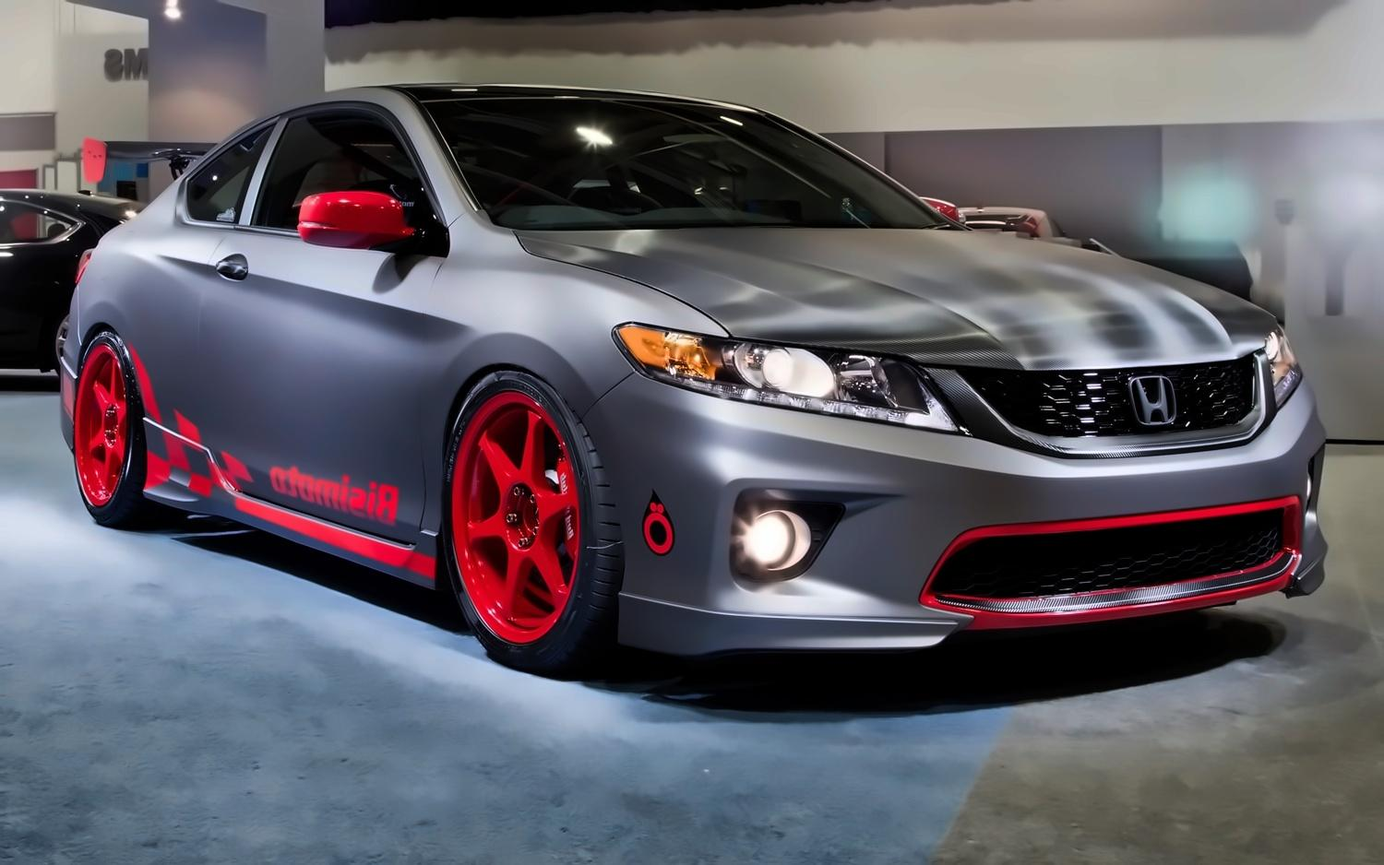Car hood: (510, 222, 1289, 367)
Driver-s door - -F-R-: (217, 86, 460, 560)
Fender - -F-R-: (399, 212, 643, 597)
Front bumper: (601, 396, 1338, 664)
Headlight - -L-: (1248, 312, 1322, 415)
Headlight - -R-: (602, 308, 970, 444)
Side bumper - -R-: (129, 411, 455, 614)
Side mirror - -L-: (916, 185, 989, 250), (526, 701, 555, 727)
Side mirror - -R-: (284, 175, 433, 262)
